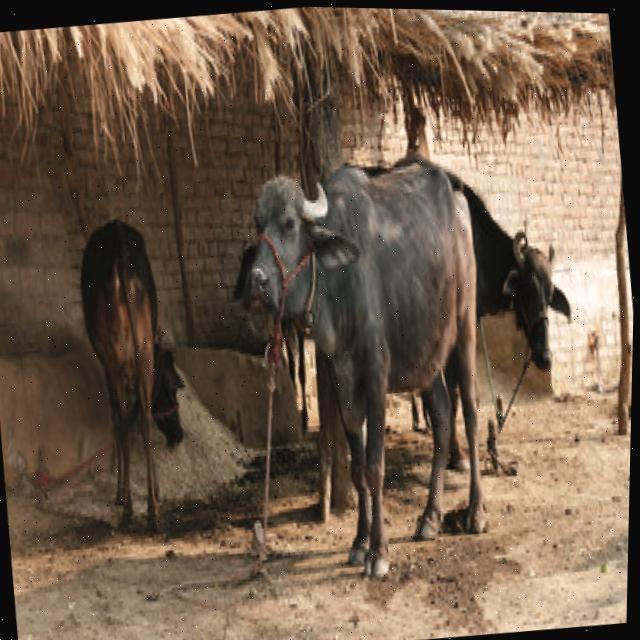Buffalo: (211, 145, 515, 603)
